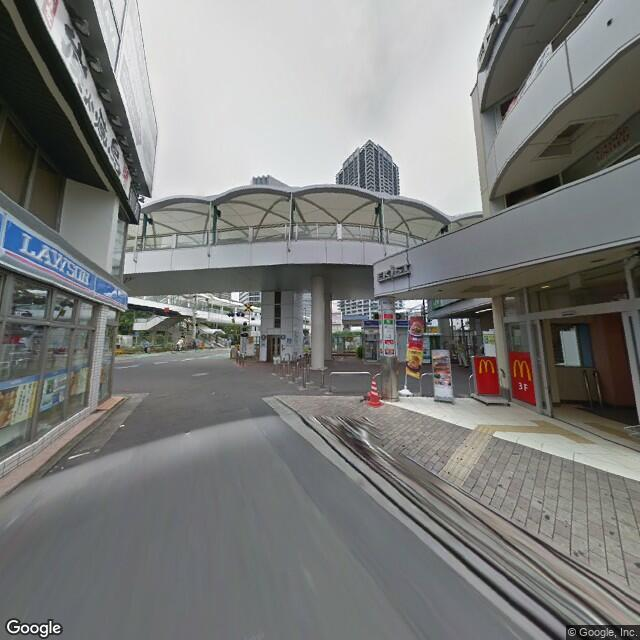lawson: (2, 213, 130, 312)
